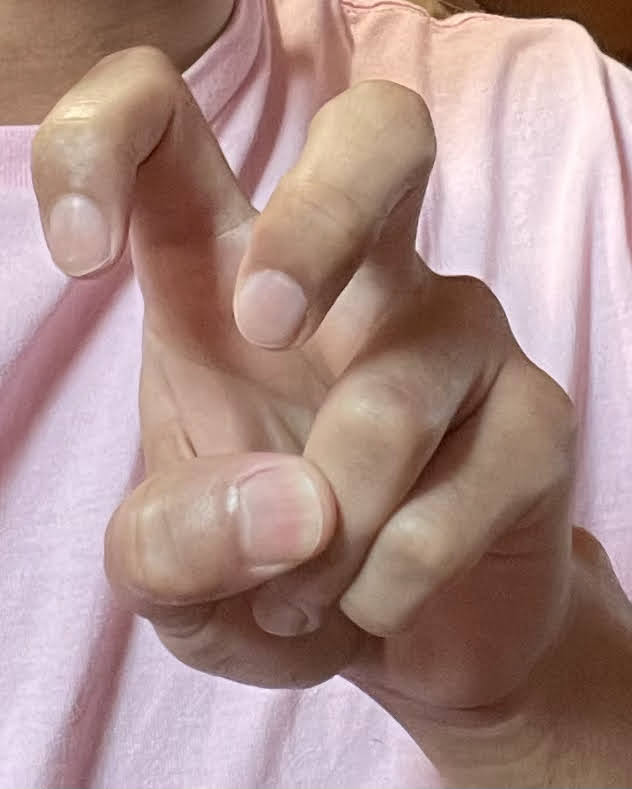pizza: (31, 43, 589, 705)
